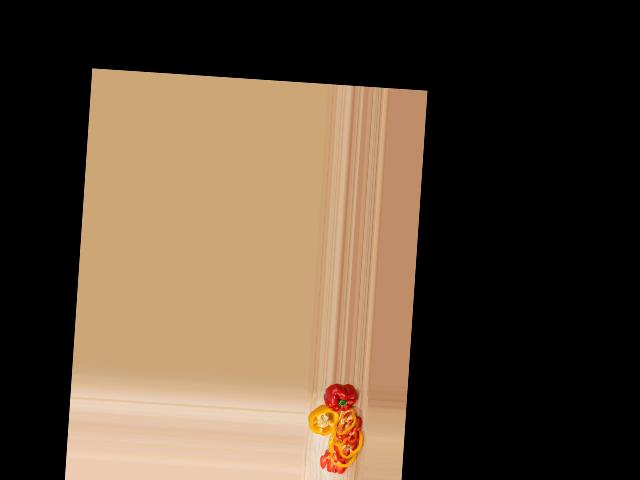bell_pepper: (306, 405, 339, 438)
